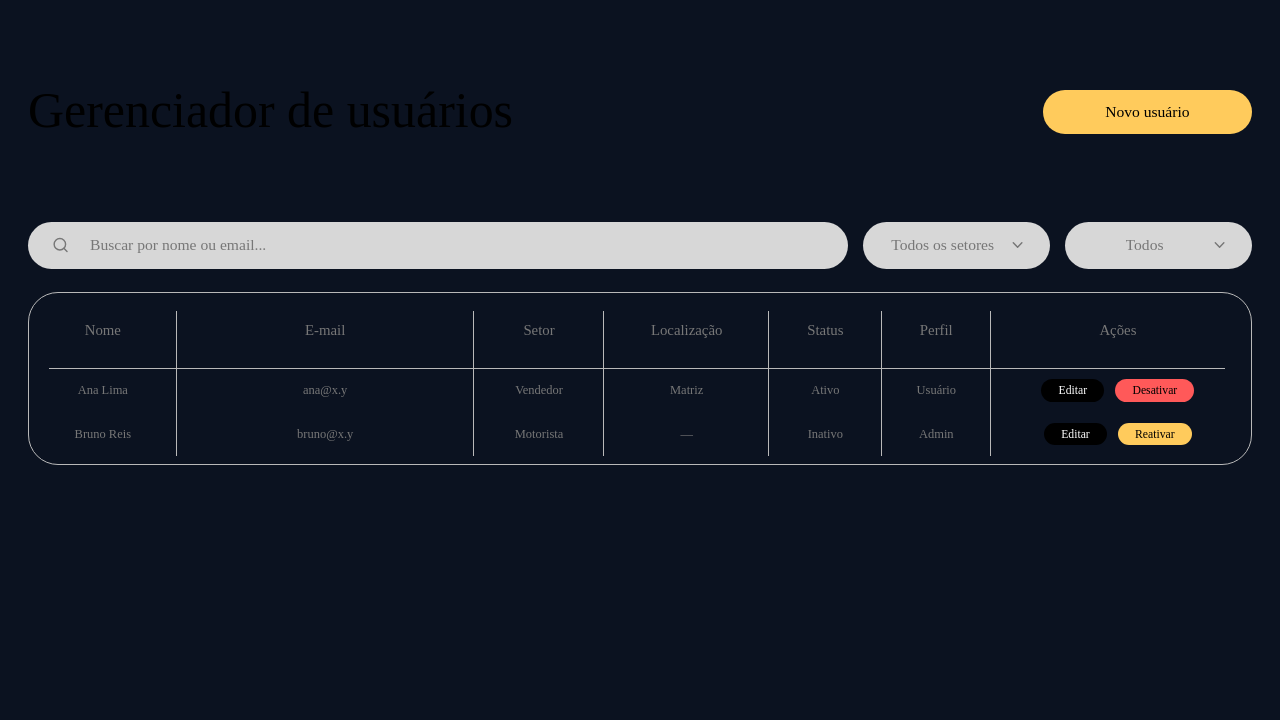
Test case: UsuariosView (W1-C04) › desativar pede confirmação e reflete o novo status na tabela
Expected: the text "Ana Lima" is shown, [78, 383, 128, 397]
What coordinates should you click on to do the following:
click the button "Desativar"
I would click on:
 (1155, 390)
Its box is [1115, 379, 1194, 402].
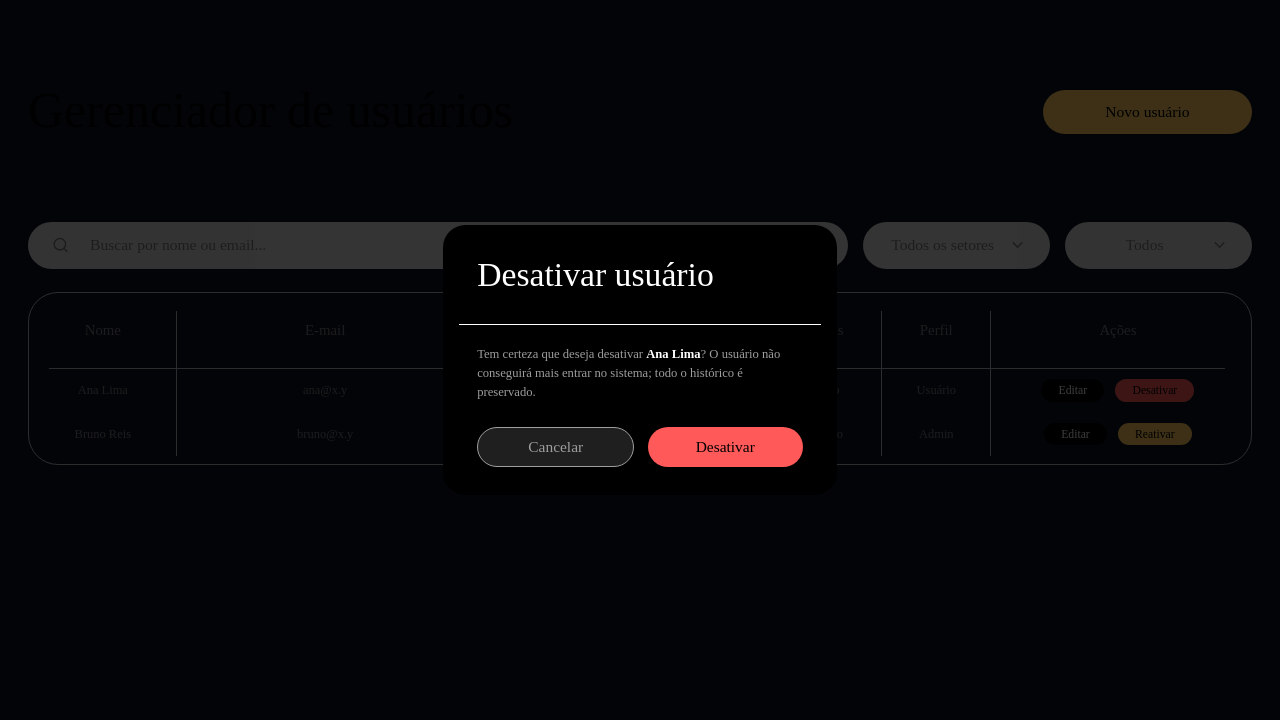
Now the text "o histórico é preservado" is shown, box [477, 347, 780, 399]
What coordinates should you click on to do the following:
click the button "Desativar"
I would click on:
 (725, 447)
Its box is [648, 427, 803, 466].
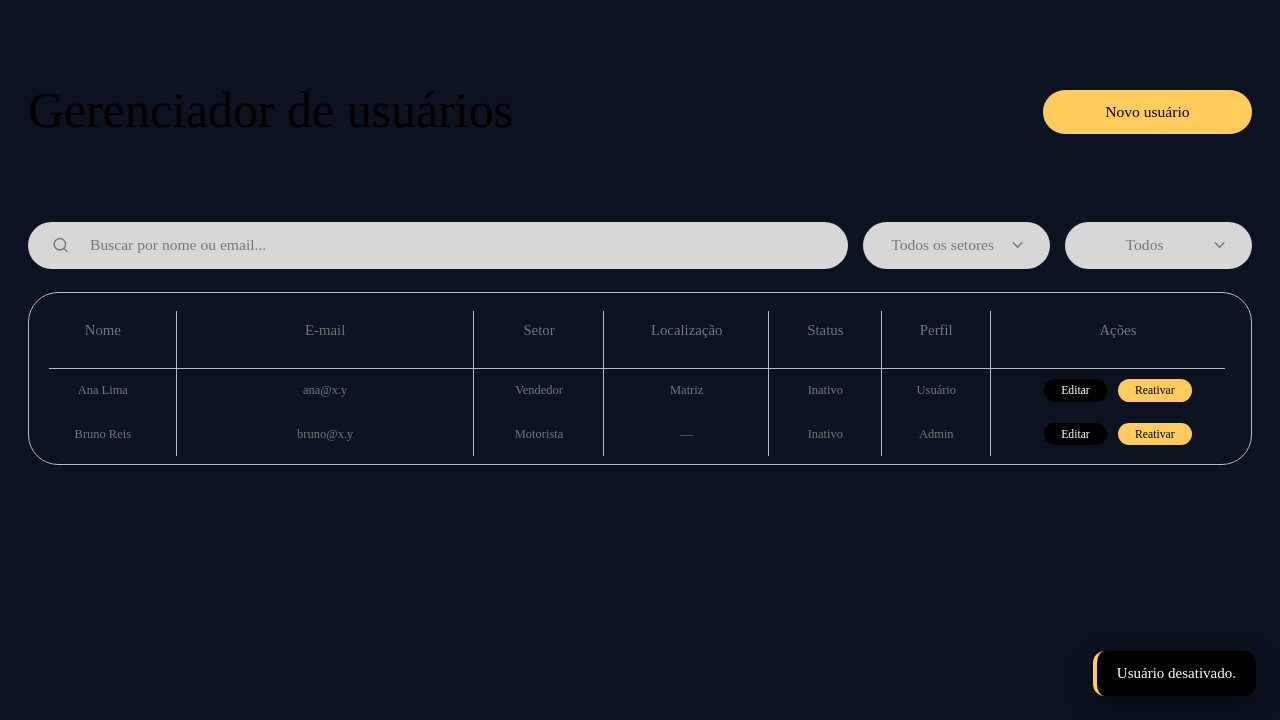
Now the text "Inativo" in the row of "Ana Lima" is shown, box [808, 383, 843, 397]
Now the button "Reativar" in the row of "Ana Lima" is shown, box [1118, 379, 1192, 402]
